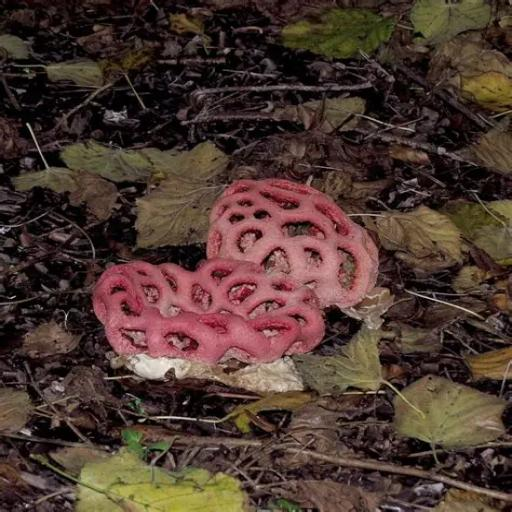Red Cage Fungus: (87, 254, 327, 396), (198, 174, 387, 317)
